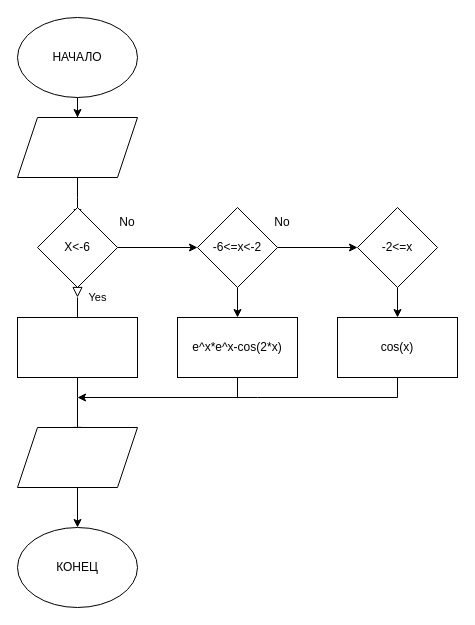
The diagram is 475 pixels wide and 625 high, and some of its shapes have lost their labels. The centre of each missing label's shape, as x and y in pixels:
"(X/95)*(1/x)" belongs at pixel 77 347.
"ВВОД X" belongs at pixel 77 147.
"ВЫВОД ЗНАЧЕНИЯ ФУНКЦИИ" belongs at pixel 77 457.
